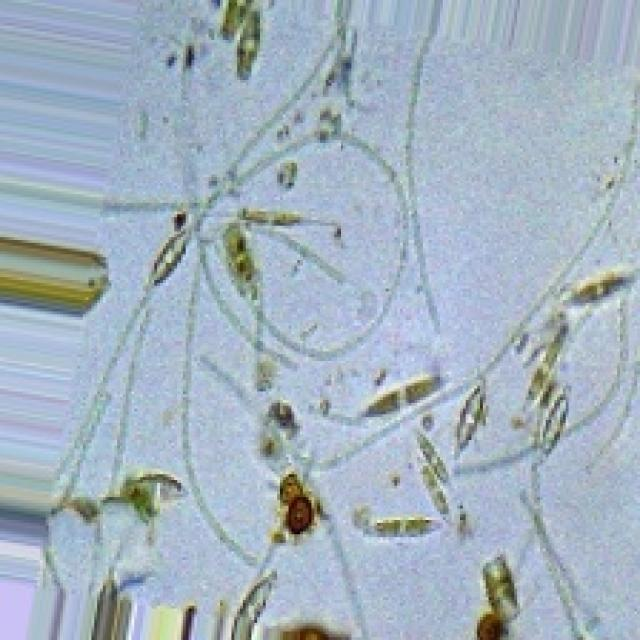Spiral_bacteria: (29, 0, 637, 637)
